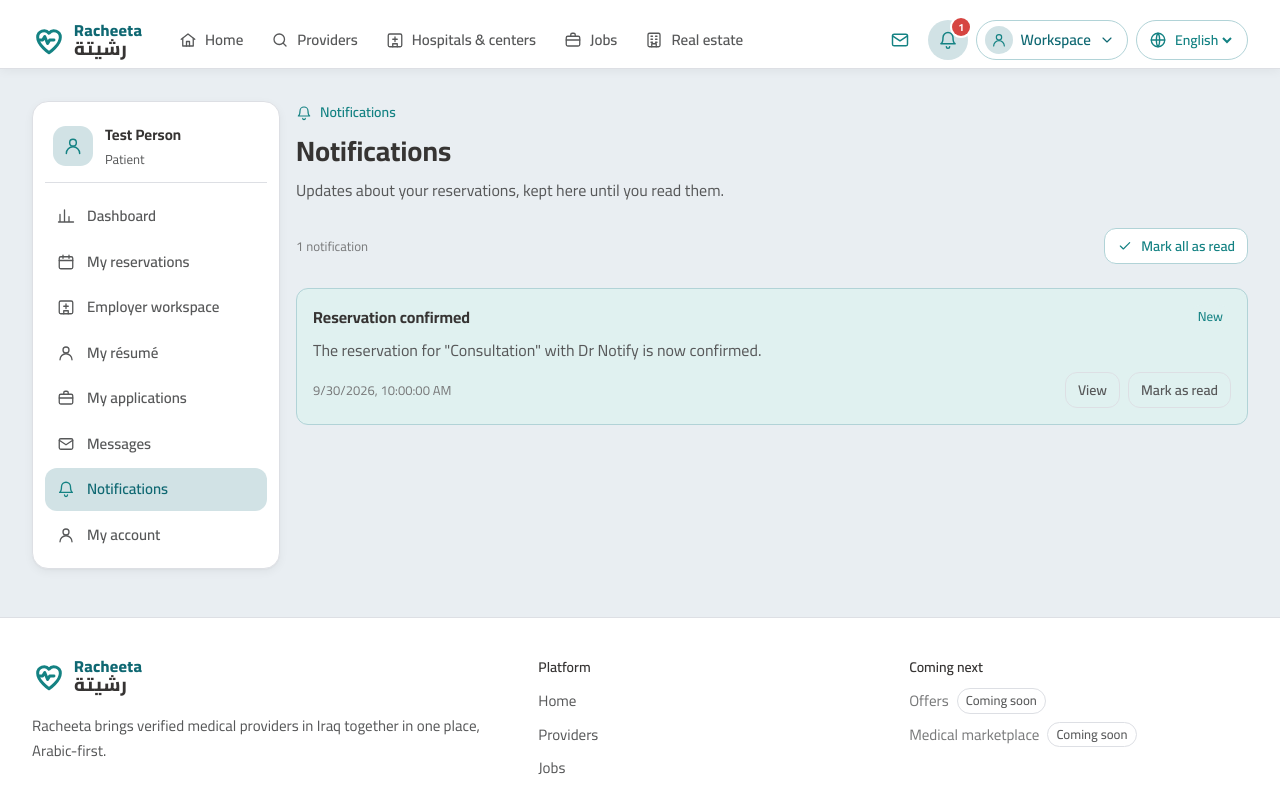
Test: NotificationsPage › shows the typed error when marking fails and keeps the row unread
Click the button "Mark as read": {"x": 1180, "y": 390} [1128,372,1231,408]
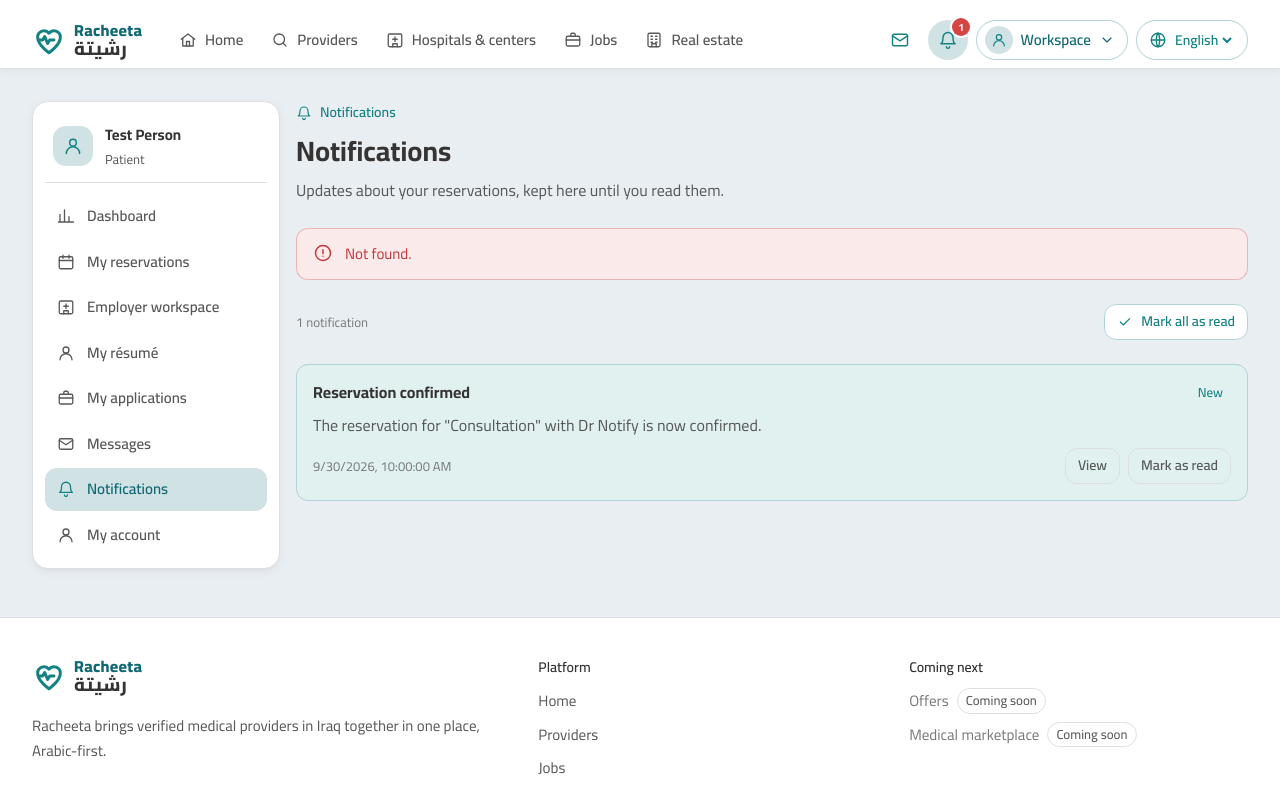
Expected: the button "Mark as read" is enabled, [1128,448,1231,484]
Expected: the text "Not found." is shown, [345,239,412,268]
